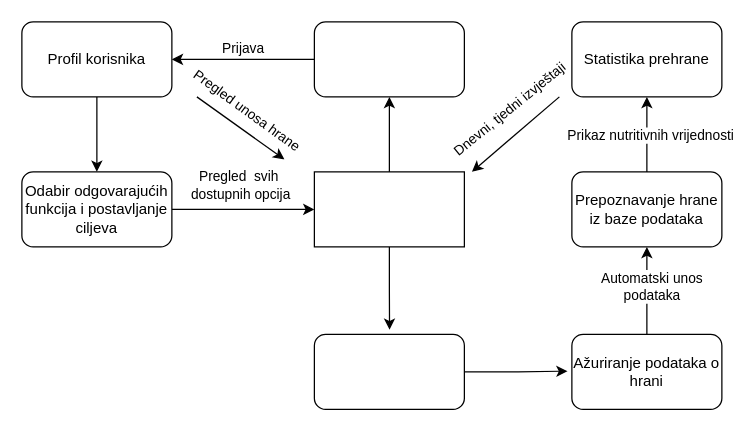
This 755x431 diagram has some shape labels left out. Each missing label, with the box of its shape:
Korisnik: (313, 171, 464, 247)
Registracija korisnika: (313, 21, 464, 97)
Unos dnevnog unosa hrane: (313, 333, 464, 409)
